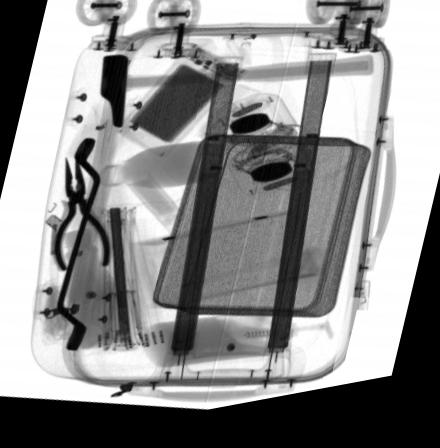Hammer: (100, 58, 372, 130)
Pliers: (53, 157, 112, 275)
Powerbank: (111, 49, 251, 163)
Wrench: (55, 137, 102, 352)
